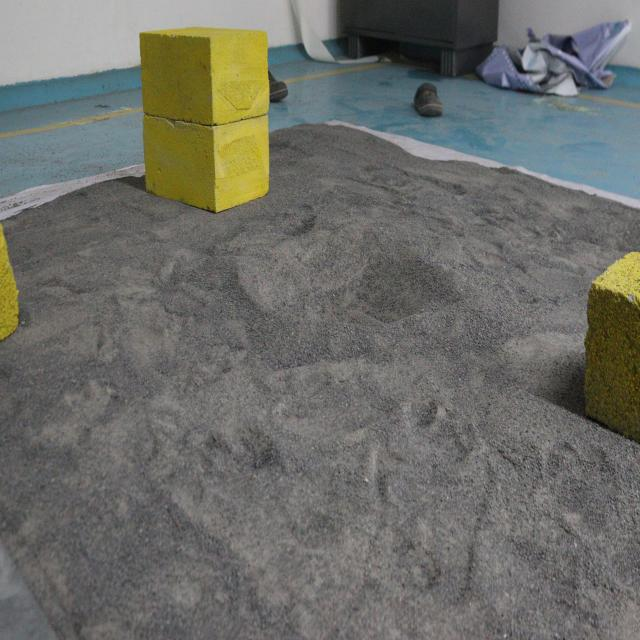box: (134, 21, 274, 212)
crater: (237, 227, 483, 339)
